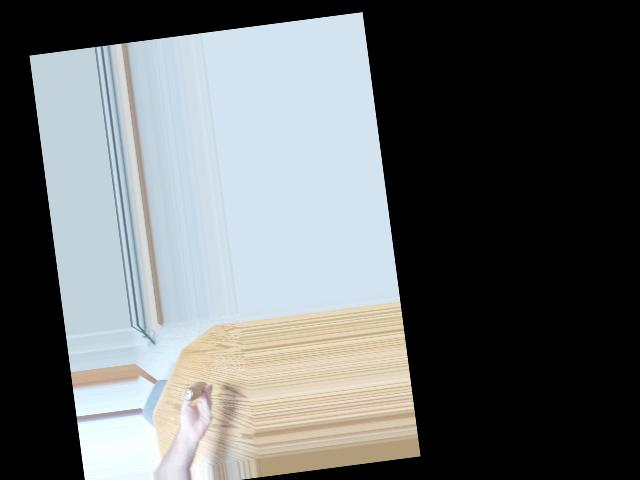sweet_potato: (176, 379, 210, 407)
